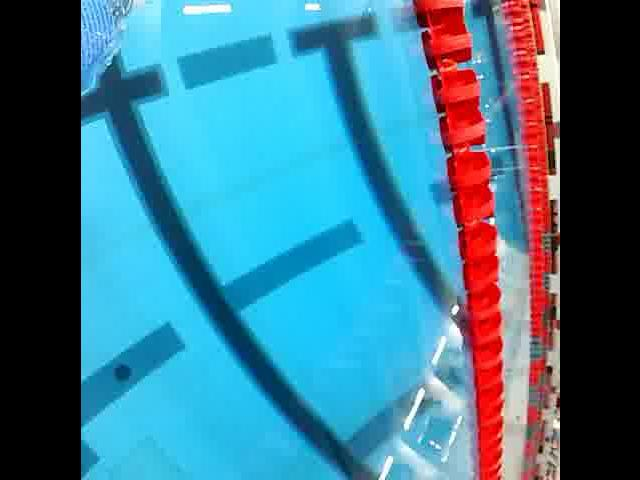Bottle: (81, 0, 168, 101)
